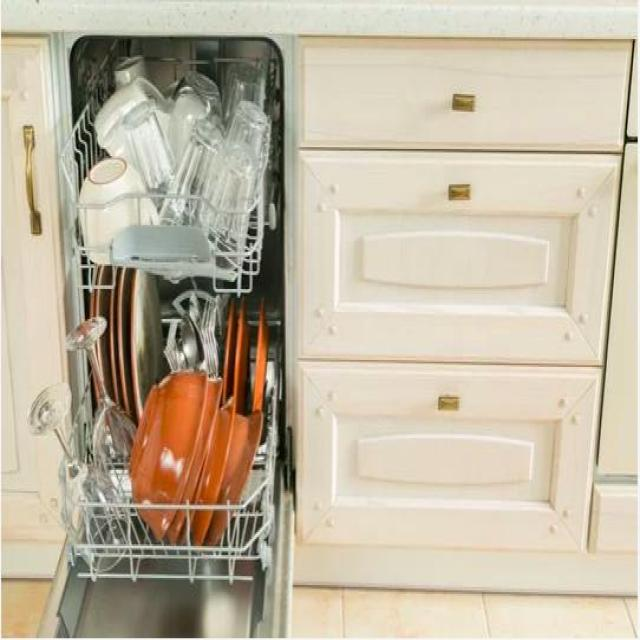dishwasher: (38, 36, 296, 638)
